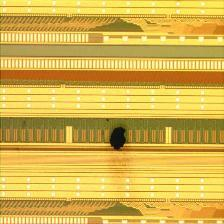PARTICLE: (102, 122, 134, 154)
